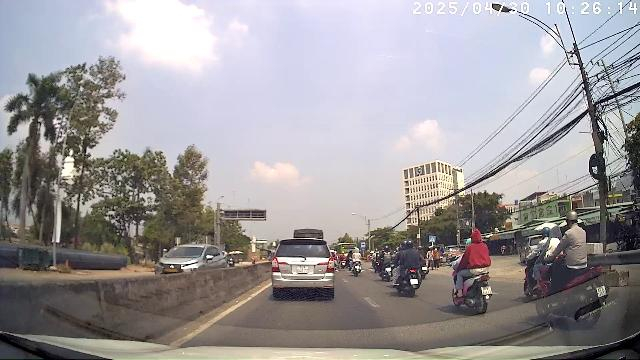423a-duong-nguoi-di-bo-sang-ngang-1: (429, 236, 435, 242)
